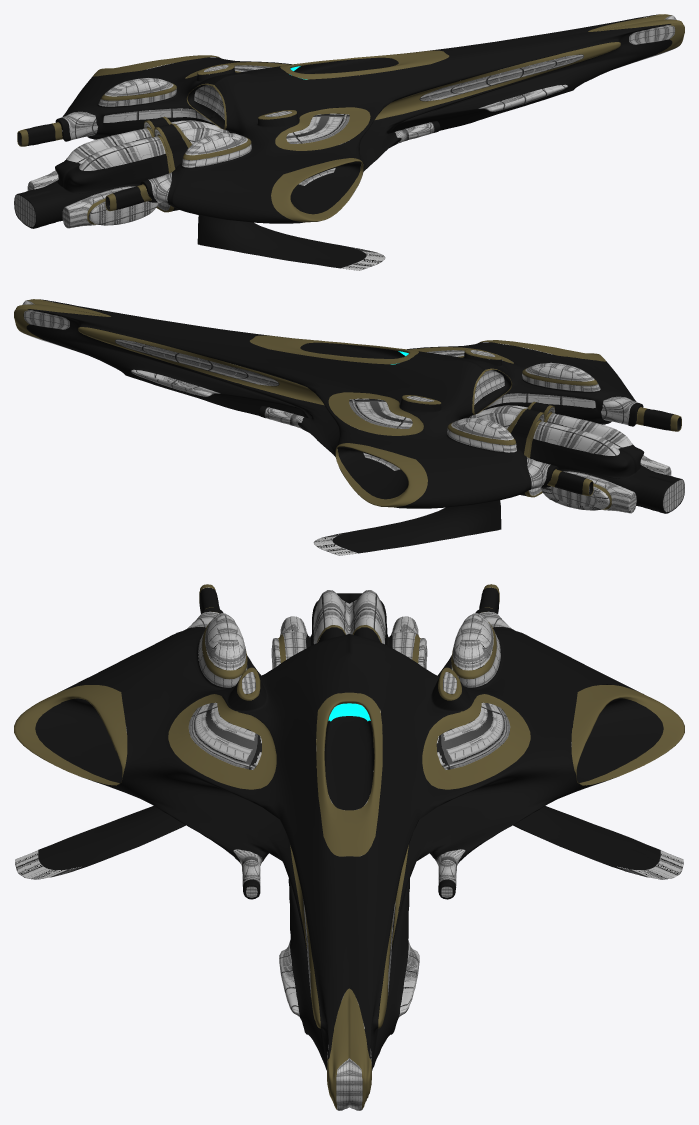
The model's file is navelvl10.glb.
The picture shows the model from 3 angles, top to bottom: view 1: azimuth 30°, elevation 25°; view 2: azimuth 150°, elevation 25°; view 3: azimuth 270°, elevation 25°; orthographic projection. The views are drawn at different scales.
Visible parts, largest first — view 1: Object_6, Object_5, Object_4; view 2: Object_6, Object_5, Object_4; view 3: Object_6, Object_4, Object_5.
Boxes of the visible parts, x1,y1,x2,y2 form: Object_6: (14, 14, 672, 268); Object_5: (14, 15, 678, 270); Object_4: (17, 14, 684, 224); Object_6: (23, 299, 684, 553); Object_5: (20, 300, 684, 555); Object_4: (14, 299, 681, 509); Object_6: (35, 587, 663, 1070); Object_4: (14, 584, 684, 1109); Object_5: (15, 590, 683, 1110).
Bounding box in the file's own units: 54.75 × 9.99 × 30.22.
4 materials, 1 textured.
